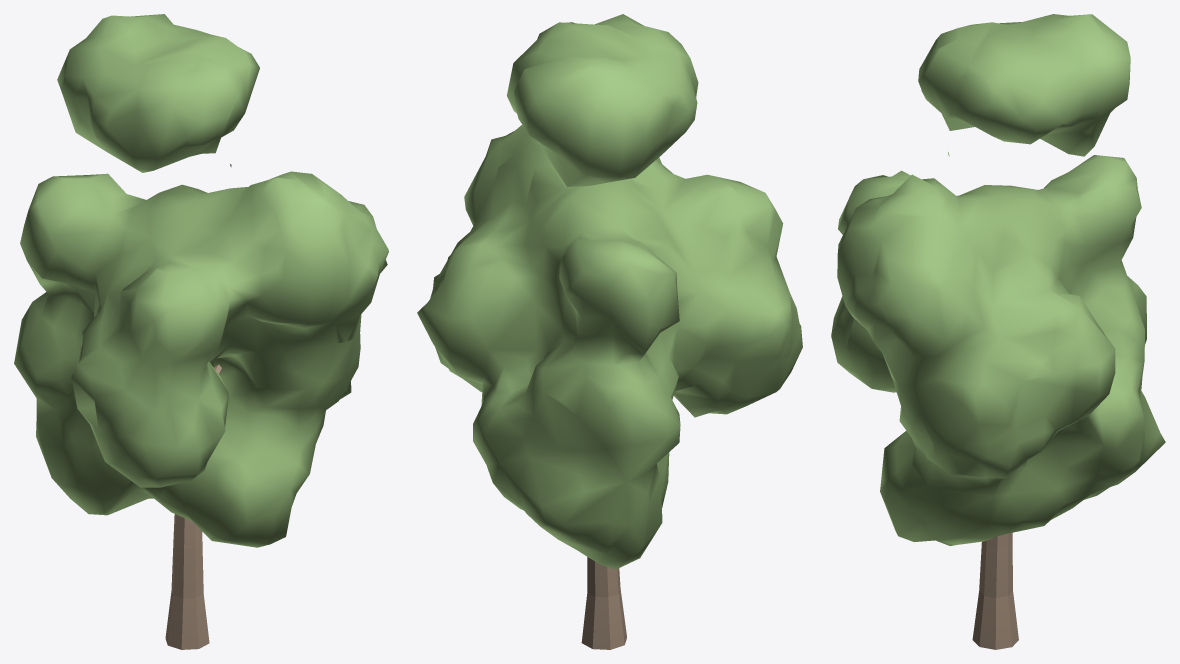
File: tree_alder.glb
3 views of the same model, side by side, from view 1: azimuth 30°, elevation 25°; view 2: azimuth 150°, elevation 25°; view 3: azimuth 270°, elevation 25° (orthographic). The views are drawn at different scales.
Visible parts, largest first — view 1: tree_alder; view 2: tree_alder; view 3: tree_alder.
Part boxes in pixels (x1,y1,x2,y2): tree_alder: [14, 14, 388, 649]; tree_alder: [417, 14, 802, 649]; tree_alder: [831, 14, 1165, 649].
Size of the model in its own units: 4.95 by 9.17 by 4.56.
